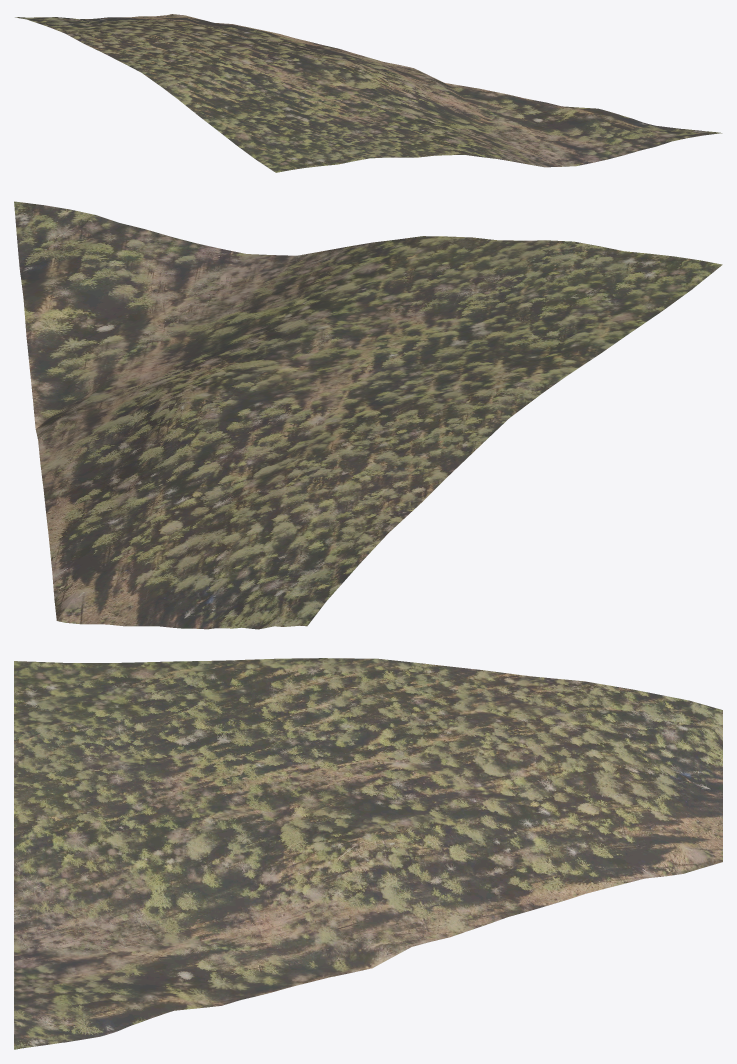
The model's file is CM_Terrain_24493735_6816722.fbx.
3 views of the same model, one above another, from view 1: azimuth 30°, elevation 25°; view 2: azimuth 150°, elevation 25°; view 3: azimuth 270°, elevation 25° (orthographic). The views are drawn at different scales.
Parts seen in each view (by area): view 1: CM_Terrain_24493735_6816722_LOD0; view 2: CM_Terrain_24493735_6816722_LOD0; view 3: CM_Terrain_24493735_6816722_LOD0.
Boxes of the visible parts, x1,y1,x2,y2 form: CM_Terrain_24493735_6816722_LOD0: [15, 14, 722, 172]; CM_Terrain_24493735_6816722_LOD0: [14, 201, 722, 629]; CM_Terrain_24493735_6816722_LOD0: [14, 658, 722, 1049].
Size of what is drawn, in the model's own units: 202 by 35.55 by 205.
